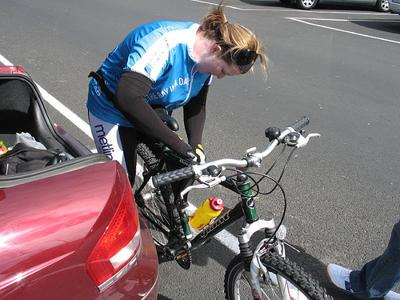person: (80, 6, 270, 219)
